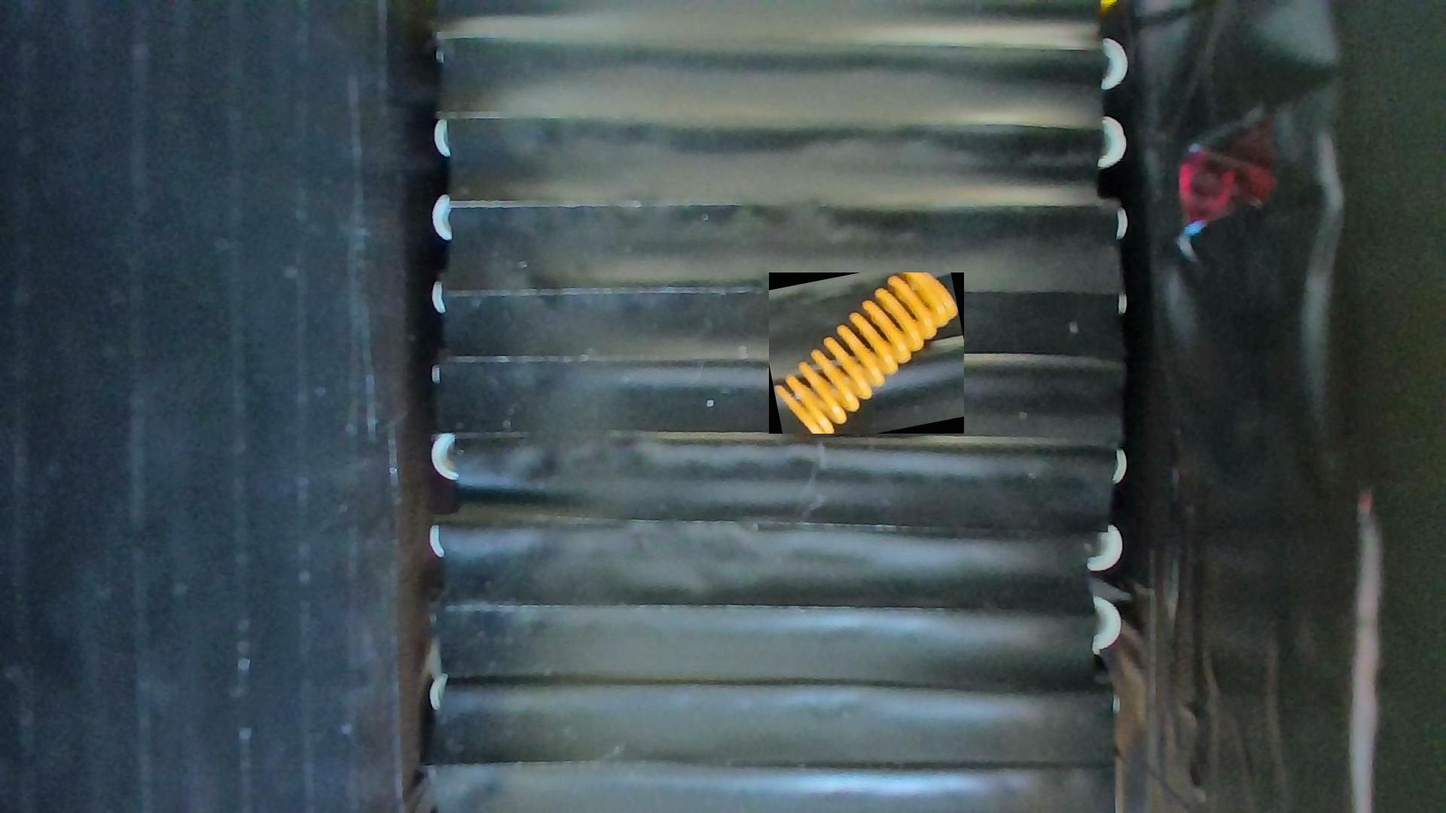spring: (768, 273, 963, 434)
